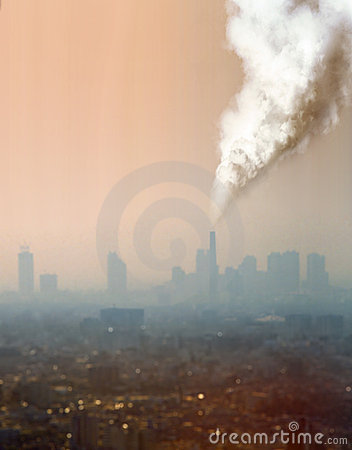dust: (194, 11, 339, 253)
